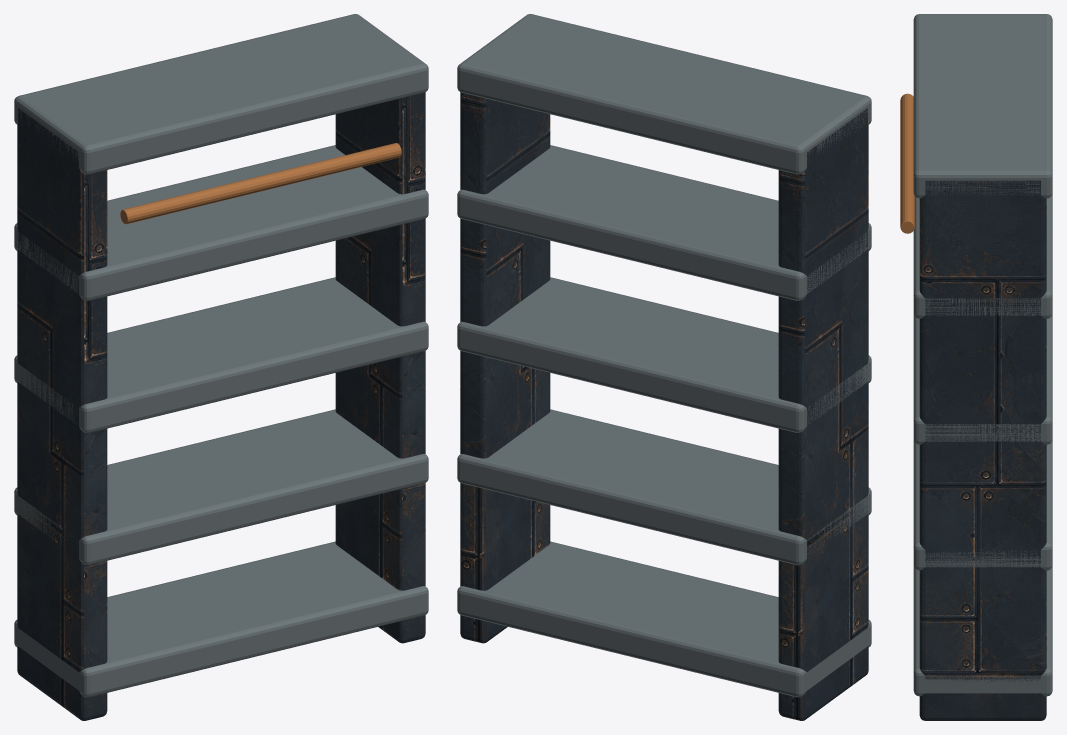
File: APT_Shelf_Open_Service.glb
3 renders of one model, left to right at view 1: azimuth 30°, elevation 25°; view 2: azimuth 150°, elevation 25°; view 3: azimuth 270°, elevation 25°, orthographic. The views are drawn at different scales.
Parts seen in each view (by area): view 1: Shelf_Post_-0.58, Shelf_Board_4, Shelf_Board_0, Shelf_Post_0.58, Shelf_Board_2, Shelf_Board_1, Shelf_Board_3, Shelf_ServiceRail; view 2: Shelf_Post_-0.58, Shelf_Board_4, Shelf_Post_0.58, Shelf_Board_0, Shelf_Board_2, Shelf_Board_3, Shelf_Board_1; view 3: Shelf_Post_0.58, Shelf_Board_4, Shelf_Board_2, Shelf_Board_0, Shelf_Board_1, Shelf_Board_3, Shelf_ServiceRail.
Part boxes in pixels (x1,y1,x2,y2): Shelf_Post_-0.58: (17, 108, 107, 720); Shelf_Board_4: (14, 14, 428, 174); Shelf_Board_0: (14, 541, 428, 697); Shelf_Post_0.58: (335, 92, 425, 643); Shelf_Board_2: (14, 277, 428, 432); Shelf_Board_1: (14, 409, 428, 565); Shelf_Board_3: (14, 145, 428, 300); Shelf_ServiceRail: (120, 143, 401, 224); Shelf_Post_-0.58: (778, 108, 868, 720); Shelf_Board_4: (457, 14, 871, 174); Shelf_Post_0.58: (460, 92, 550, 643); Shelf_Board_0: (457, 541, 871, 697); Shelf_Board_2: (457, 277, 871, 432); Shelf_Board_3: (457, 145, 871, 300); Shelf_Board_1: (457, 409, 871, 565); Shelf_Post_0.58: (919, 180, 1046, 720); Shelf_Board_4: (913, 14, 1052, 198); Shelf_Board_2: (913, 314, 1052, 444); Shelf_Board_0: (913, 565, 1052, 696); Shelf_Board_1: (913, 440, 1052, 570); Shelf_Board_3: (913, 193, 1052, 318); Shelf_ServiceRail: (900, 93, 914, 233).
Bounding box in the file's own units: 1.26 × 2.01 × 0.504.
Materials: 3 (1 with a texture image).
